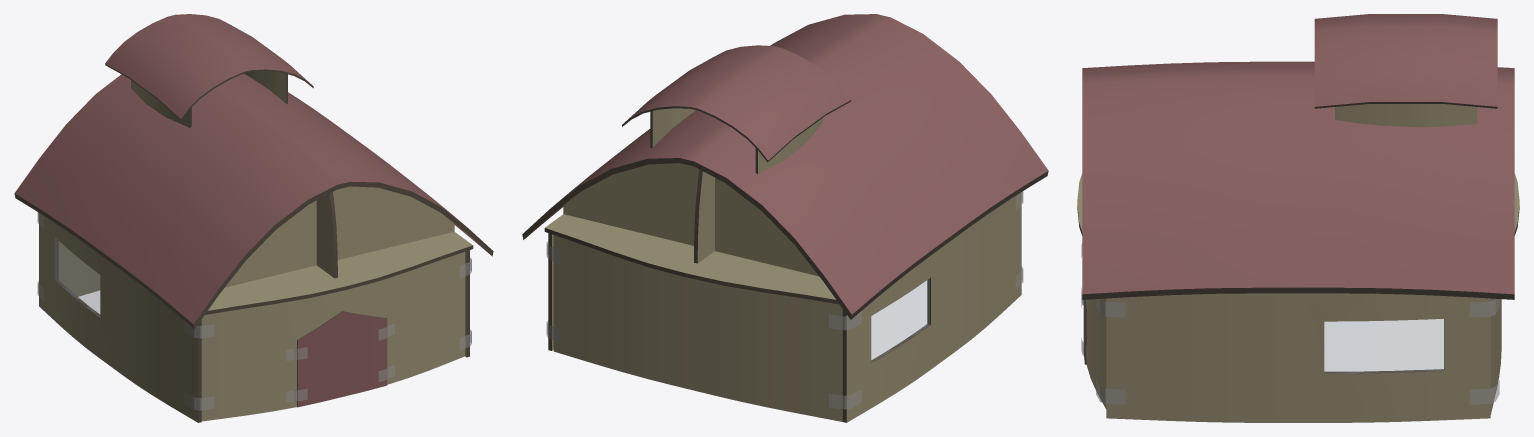
Rendered from Barn.fbx.
The picture shows the model from 3 angles, left to right: view 1: azimuth 30°, elevation 25°; view 2: azimuth 150°, elevation 25°; view 3: azimuth 270°, elevation 25°; orthographic projection. The views are drawn at different scales.
Visible parts, largest first — view 1: BarnModel, DoorL, DoorR; view 2: BarnModel; view 3: BarnModel.
Boxes of the visible parts, x1,y1,x2,y2 form: BarnModel: [14, 14, 493, 422]; DoorL: [297, 311, 342, 407]; DoorR: [343, 311, 387, 396]; BarnModel: [522, 14, 1048, 422]; BarnModel: [1077, 14, 1519, 422].
Size of the model in its own units: 871 by 720 by 921.
